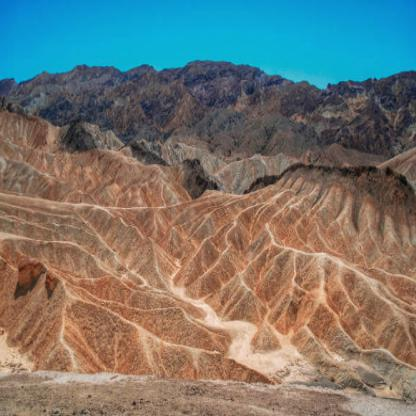Sedimentary_Sandstone: (15, 56, 169, 170), (173, 66, 337, 171), (337, 79, 415, 186)
